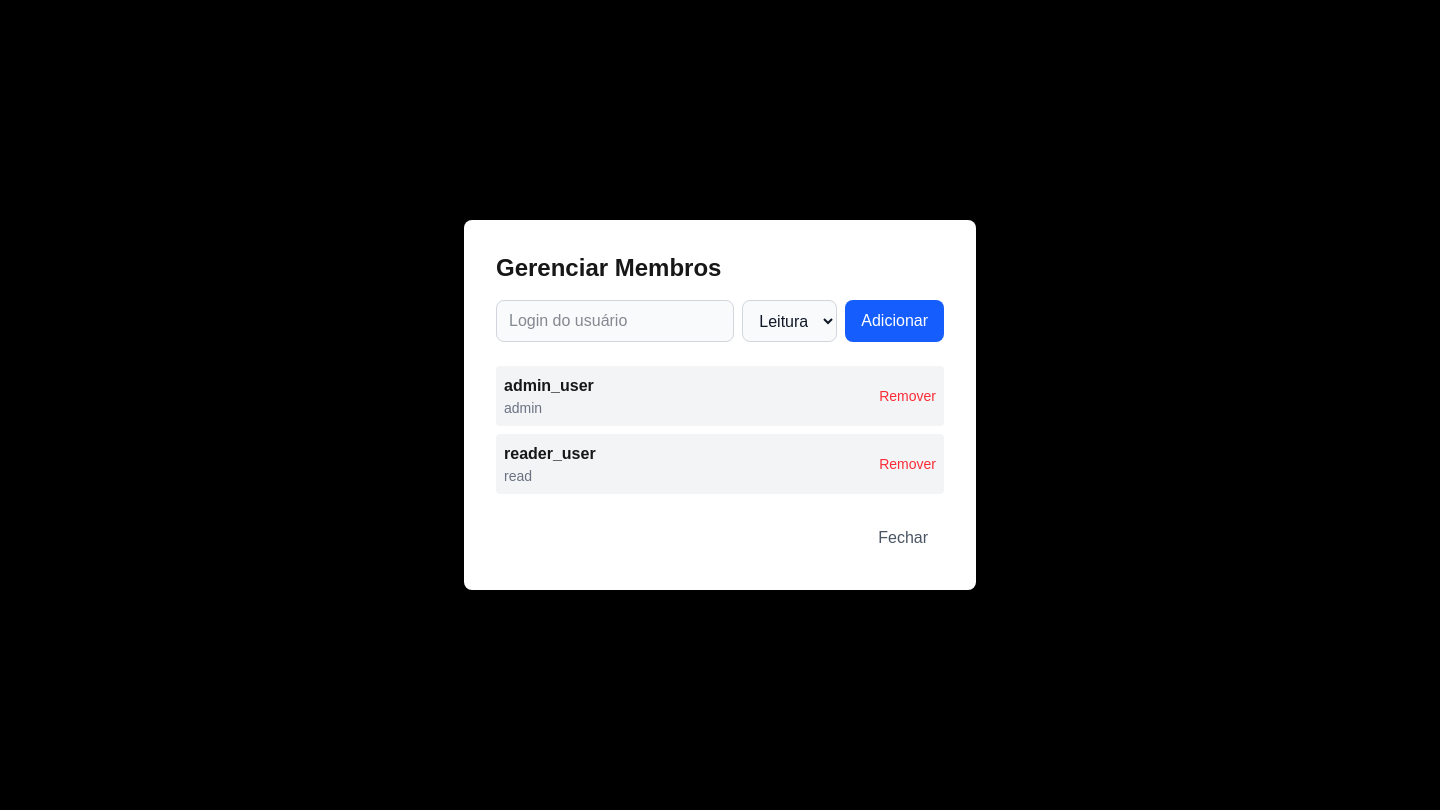
ManageMembersModal › deve permitir remover um membro
The width and height of the screenshot is (1440, 810).
// Assumindo que o segundo botão de remover corresponde ao 'reader_user'
Click the button "Remover" in the row of "reader_user".
click(908, 464)  # box [879,454,936,474]
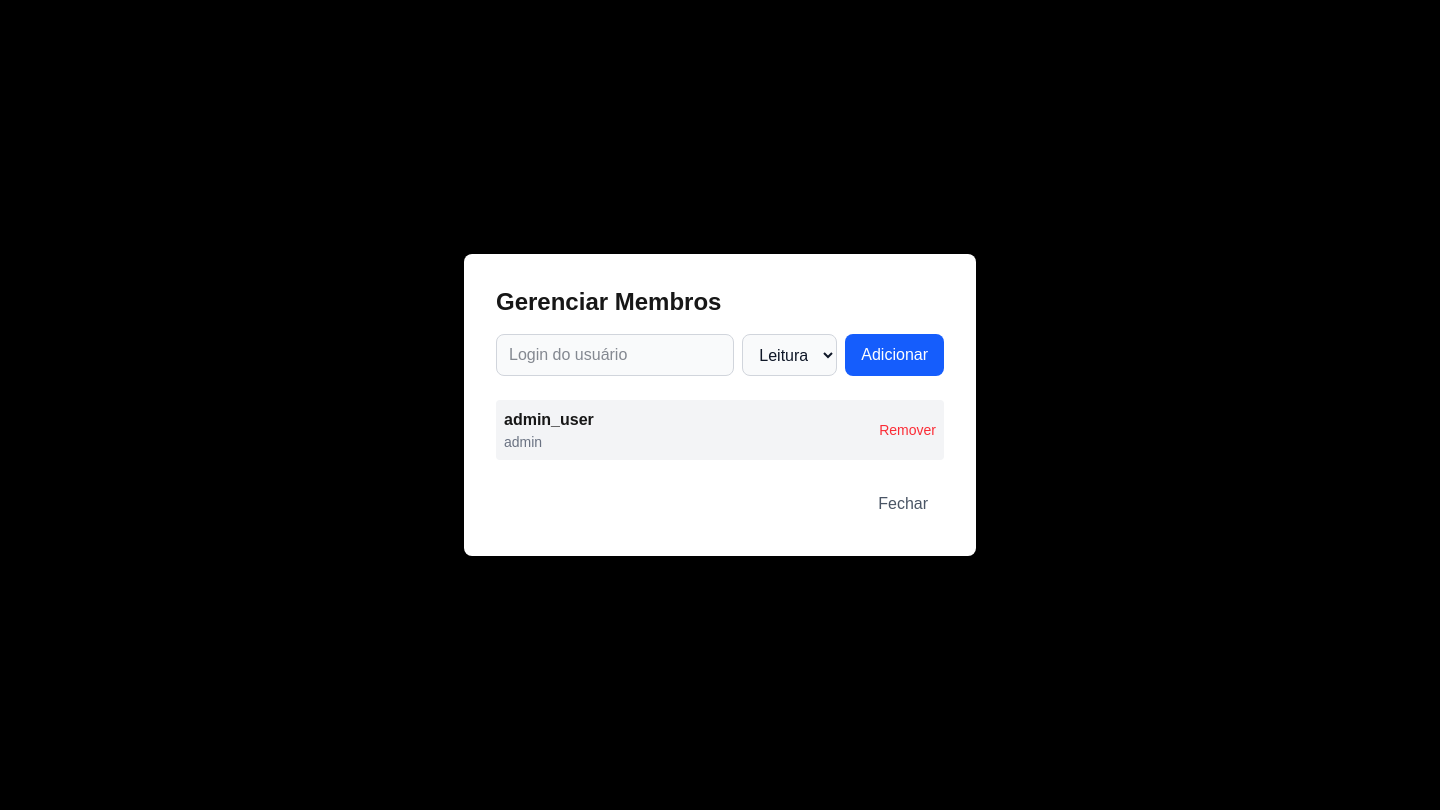
expect the text "reader_user" is gone: met
